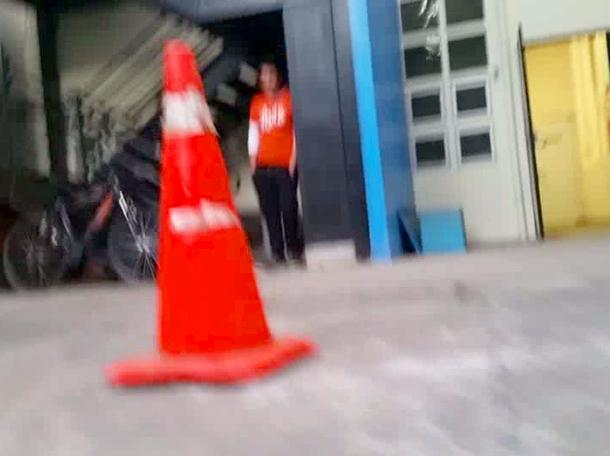0 cone: (113, 42, 315, 388)
